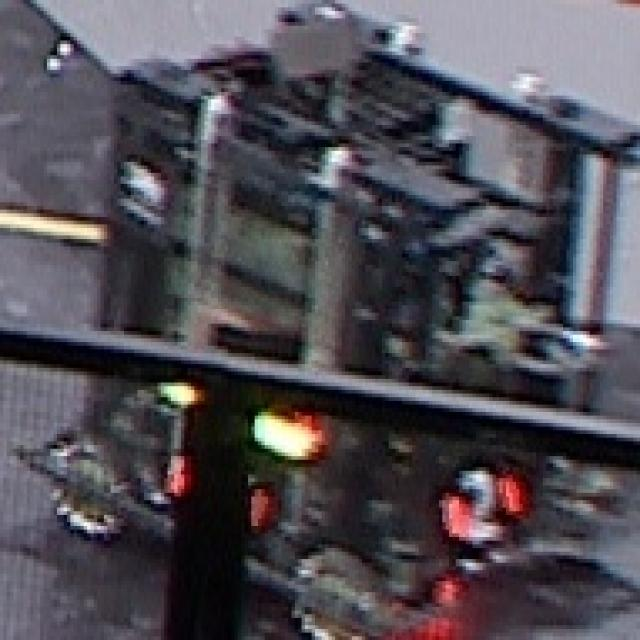R2: (439, 467, 526, 544)
